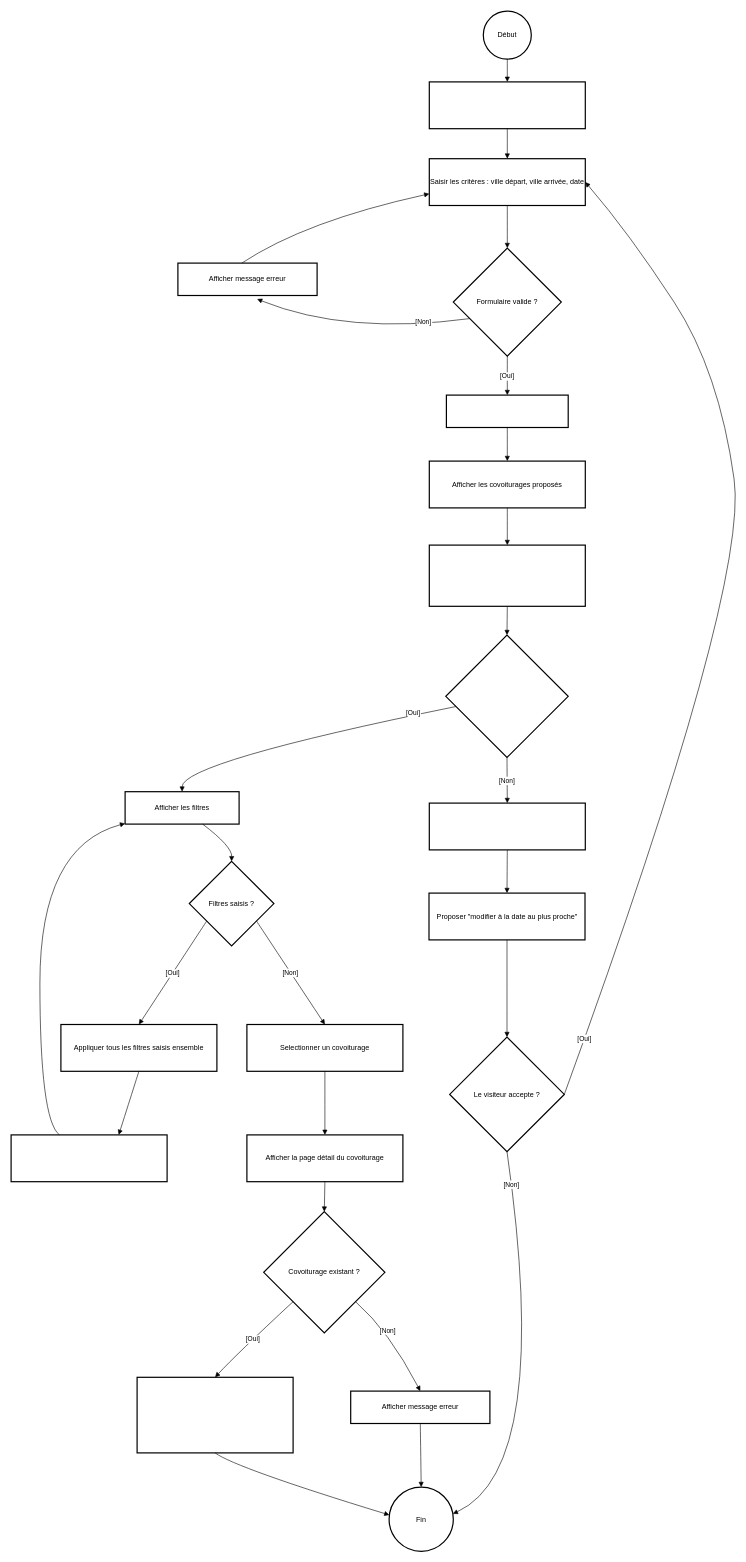
Image size: 746x1562. Some labels were removed from this diagram. Each missing label, with the centre of its shape:
Acceder a la page Covoiturages: point 507,105
Afficher message "sans résultat": point 507,826
Afficher toutes les informations du covoiturage et les avis sur le chauffeur: point 214,1414
Covoiturages trouvés ?: point 506,696
Lancer la recherche: point 507,411
Mettre a jour la liste selon les filtres: point 88,1158
Ne proposer que les covoiturages avec au moins 1 place: point 507,575
